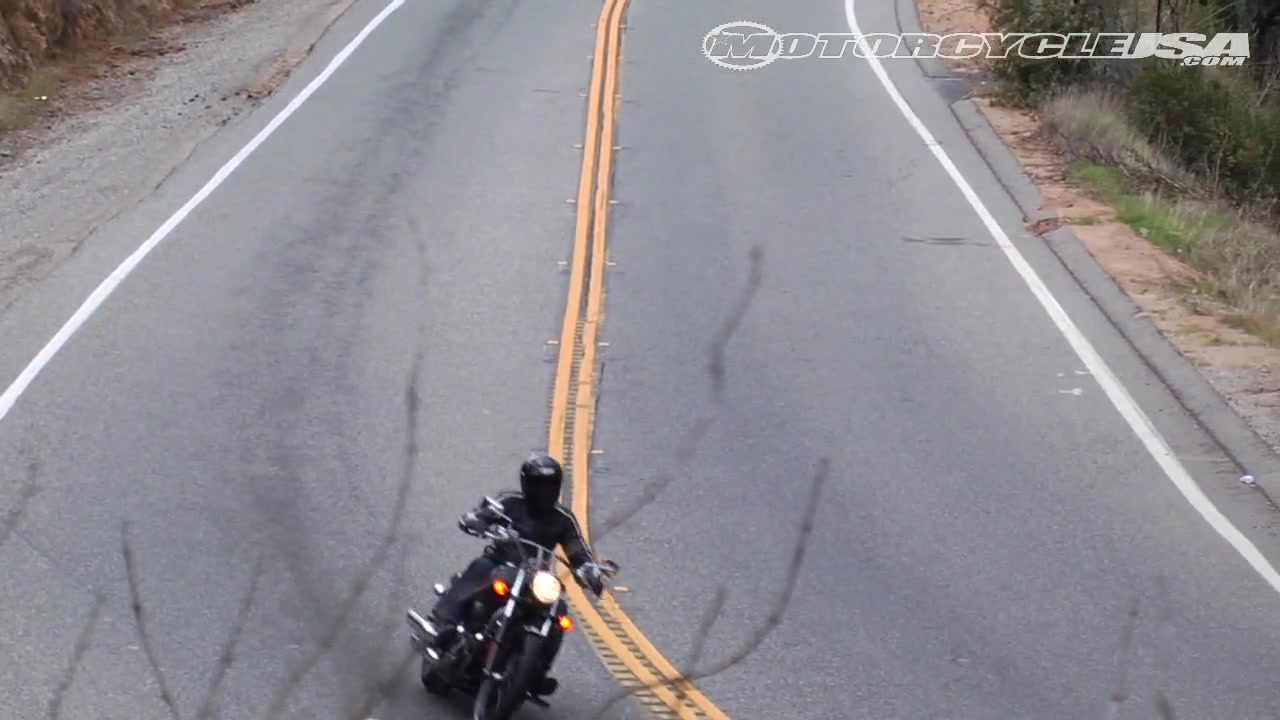motorbike: (403, 496, 621, 720)
